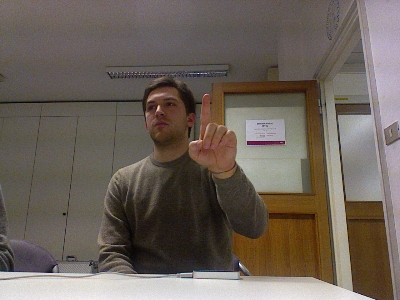食指: (187, 92, 238, 172)
